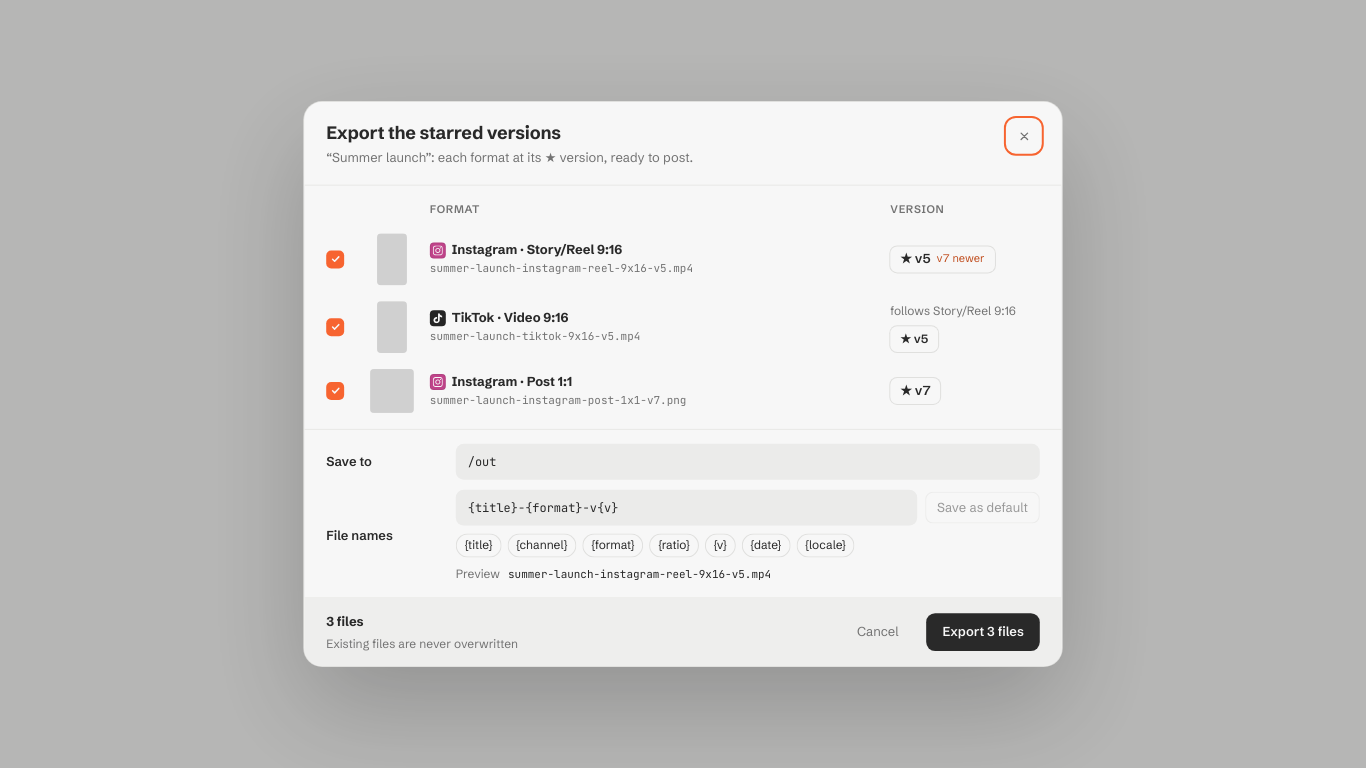
ExportDialog · the starred versions › retries an export refused while old versions are hashed (hashes-pending), then succeeds (M9)
Click the button "Export 3 files" at (984, 633), box [927,614,1041,652]
Wait 1100 ms
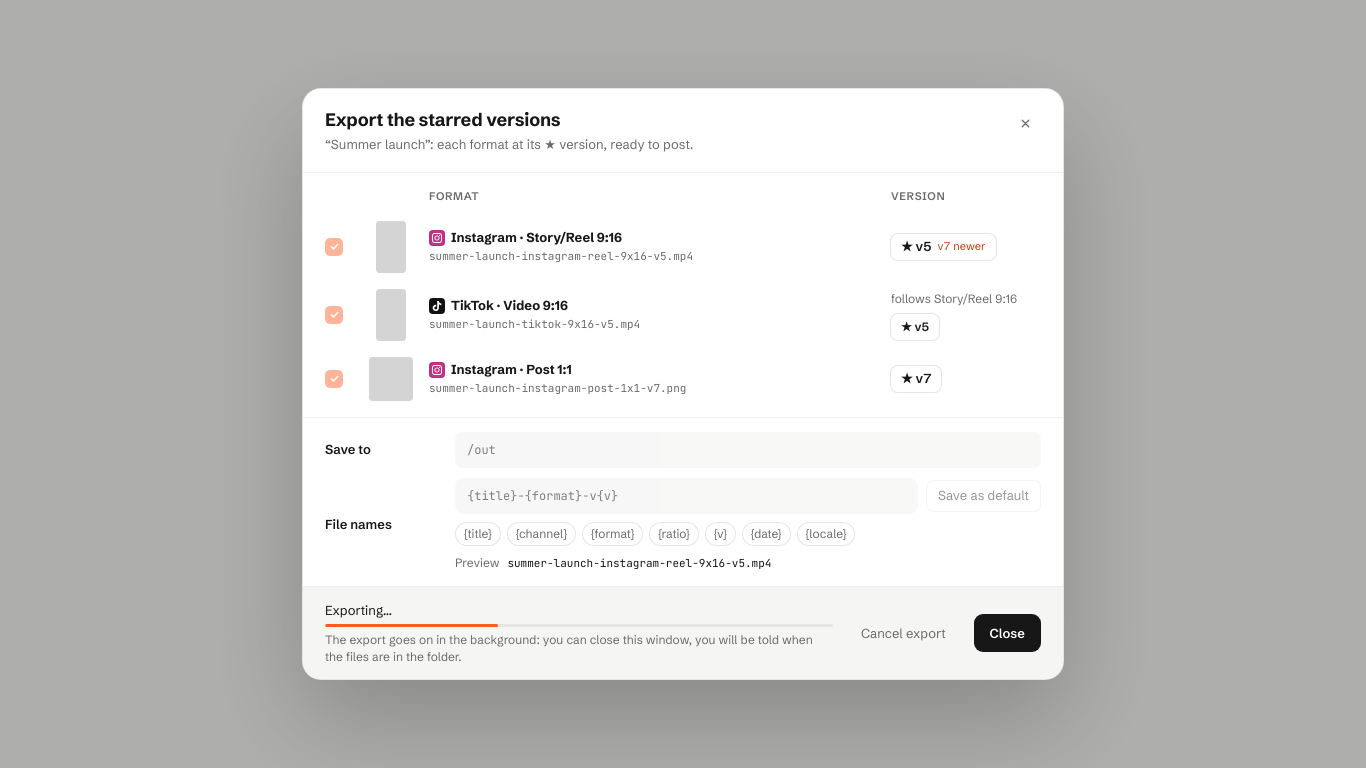
Expected: the button "Cancel export" is shown, [845,614,962,652]
